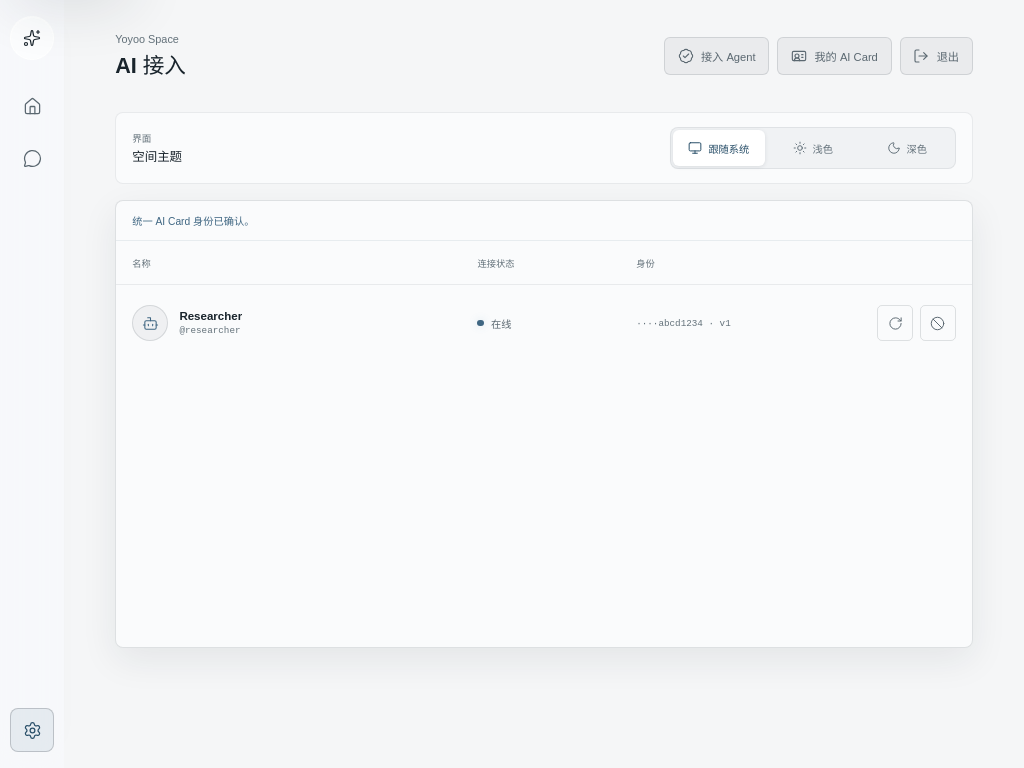
AgentDirectory › shows the current AI Card inside Yoyoo without navigating away
Expected: the button "接入 Agent" is shown, [664,37,769,75]
Click the button "我的 AI Card" at {"x": 834, "y": 56}, box [777,37,892,75]
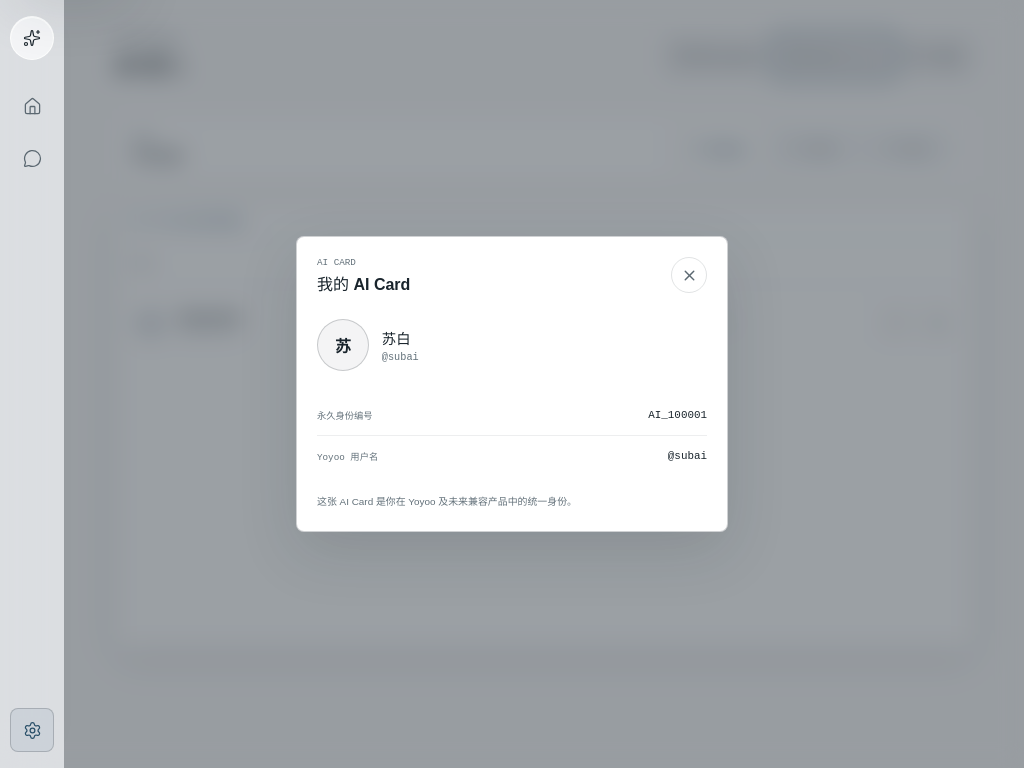
Now the dialog "我的 AI Card" shows "苏白", box [382,331,411,347]
Now the dialog "我的 AI Card" shows "AI_100001", box [648,409,707,421]
Now the dialog "我的 AI Card" shows "@subai", box [296,236,728,532]
